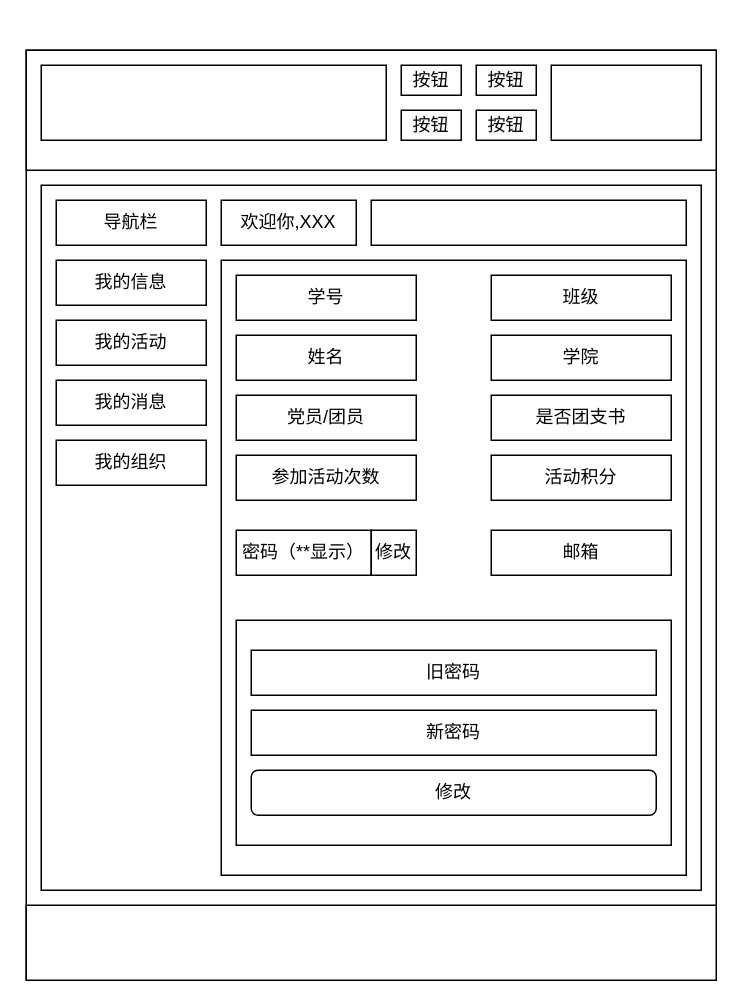
Some shapes in this 743 by 1007 pixel diagram are drawn without their labels. Here are the shapes that lost their labels. From the top down, the centre of each, then its label:
At (x=213, y=102): "网站标题（文字+图片）".
At (x=625, y=102): "当前登录学生信息显示（跳转主页）".
At (x=528, y=222): "申请活动".
At (x=370, y=942): "底部导航栏&联系发邮件".
